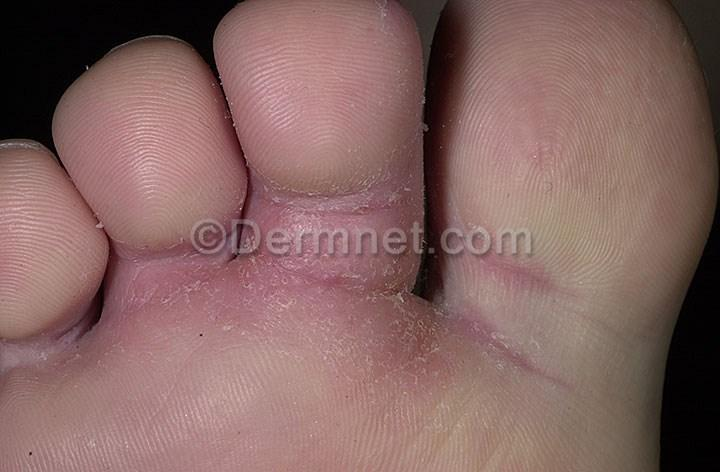Eczema: (141, 257, 459, 413), (256, 166, 419, 222)
